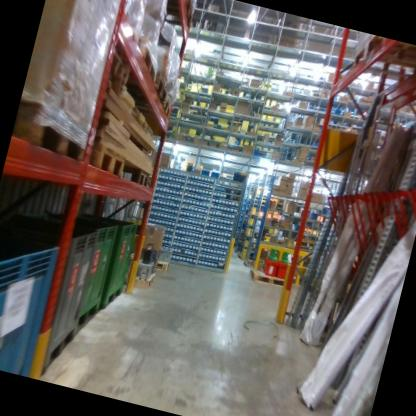pallet: (12, 101, 94, 160), (352, 32, 416, 76), (139, 0, 199, 31), (84, 146, 130, 185), (123, 41, 164, 83), (118, 264, 158, 299), (248, 265, 293, 292), (117, 164, 153, 190), (144, 68, 172, 99), (153, 88, 175, 113), (152, 255, 171, 272)
